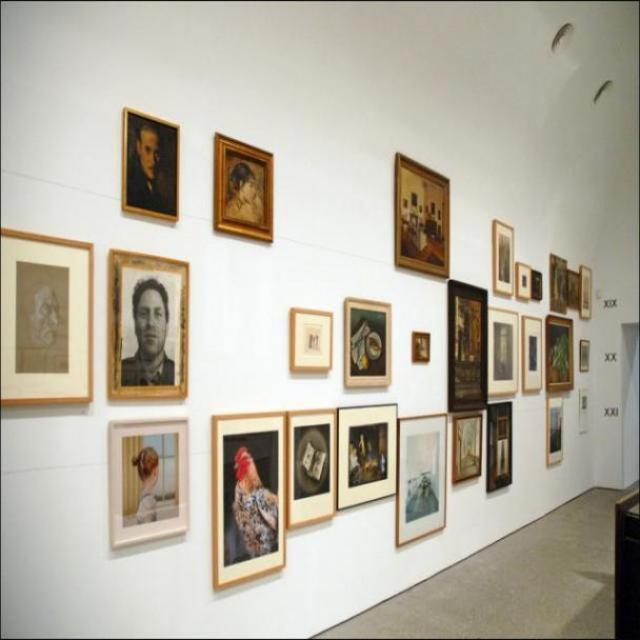Chicken: (230, 439, 279, 566)
